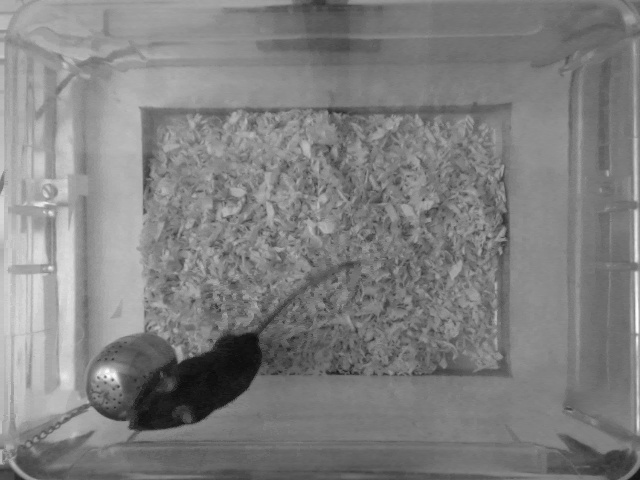mice: (131, 262, 360, 430)
